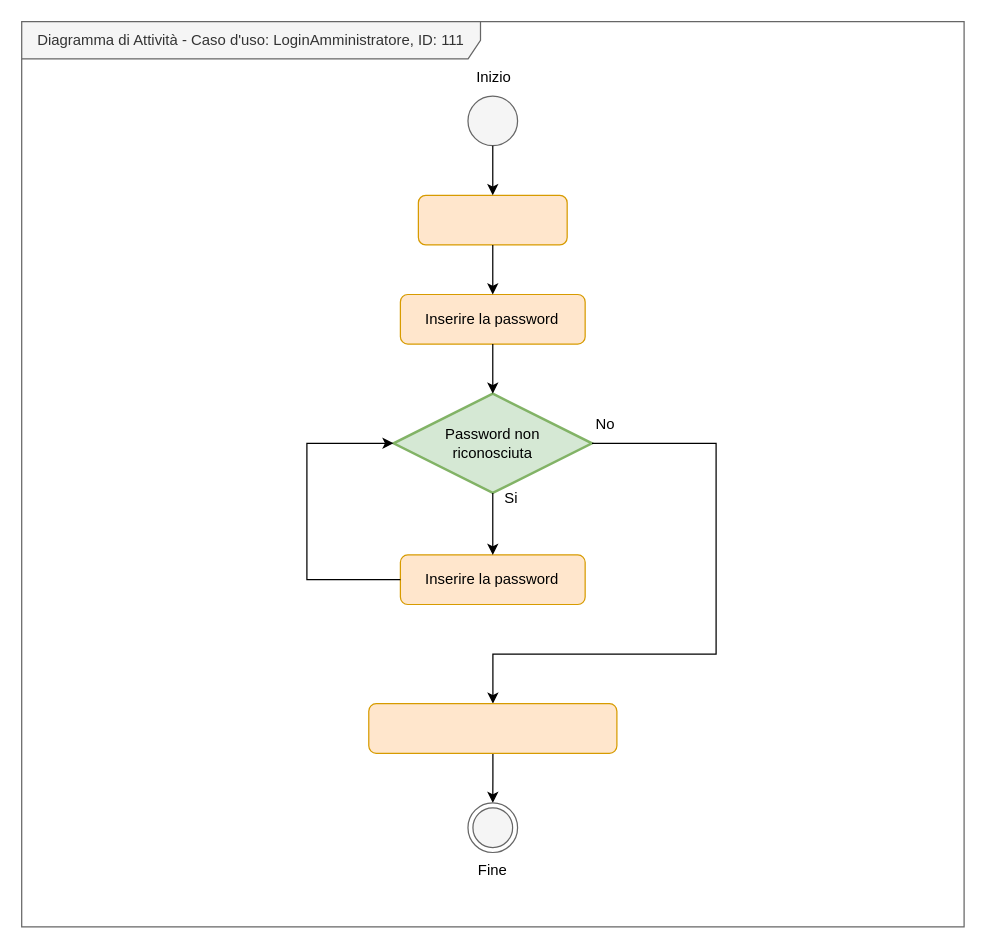
This 986x949 diagram has some shape labels left out. Here are the shapes that lost their labels. From the top down, the centre of each, then its label:
point 492,219: Inserire l'email
point 492,727: Accesso avvenuto con successo
